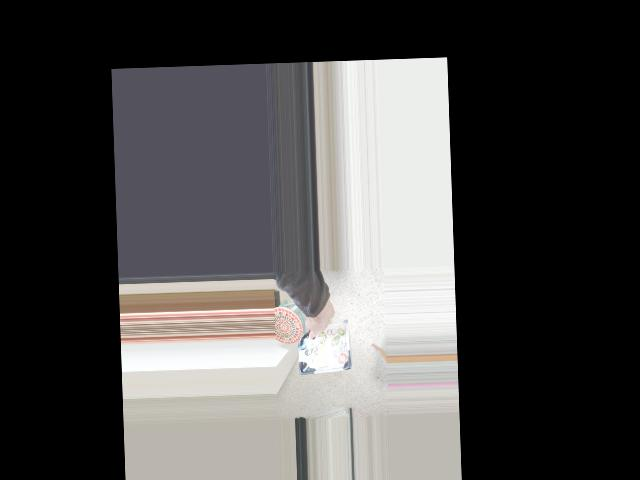cheese: (290, 303, 358, 372)
